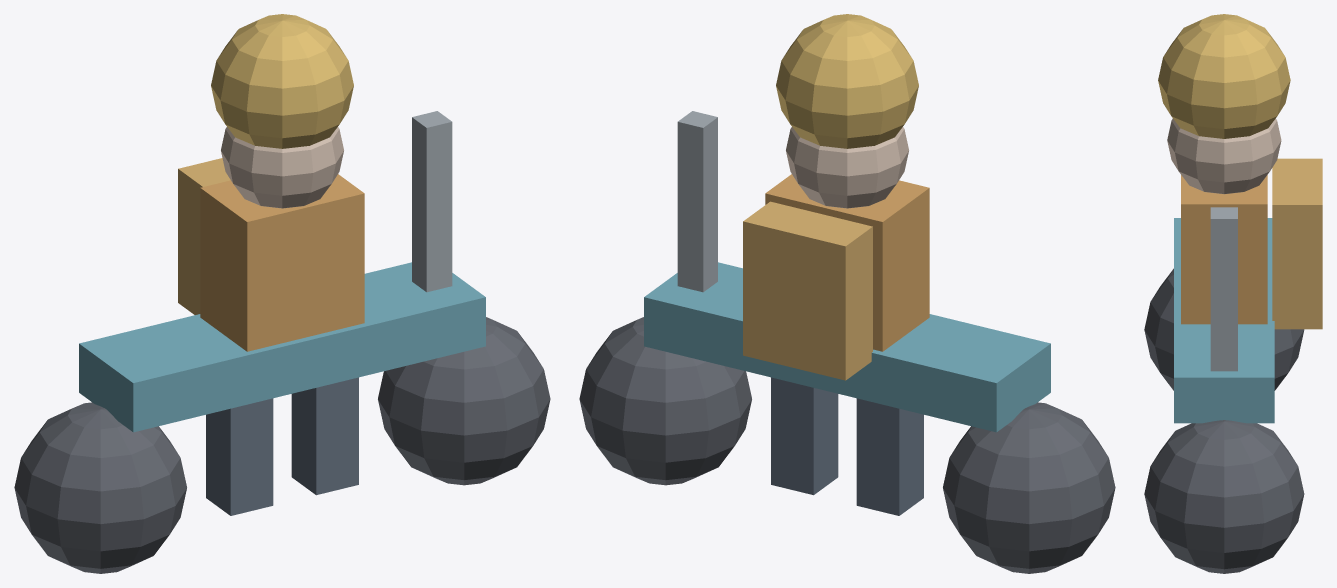
File: bicycle.glb
3 renders of one model, left to right at view 1: azimuth 30°, elevation 25°; view 2: azimuth 150°, elevation 25°; view 3: azimuth 270°, elevation 25°, orthographic. The views are drawn at different scales.
Size of the model in its own units: 2.4 by 2.24 by 0.78.
